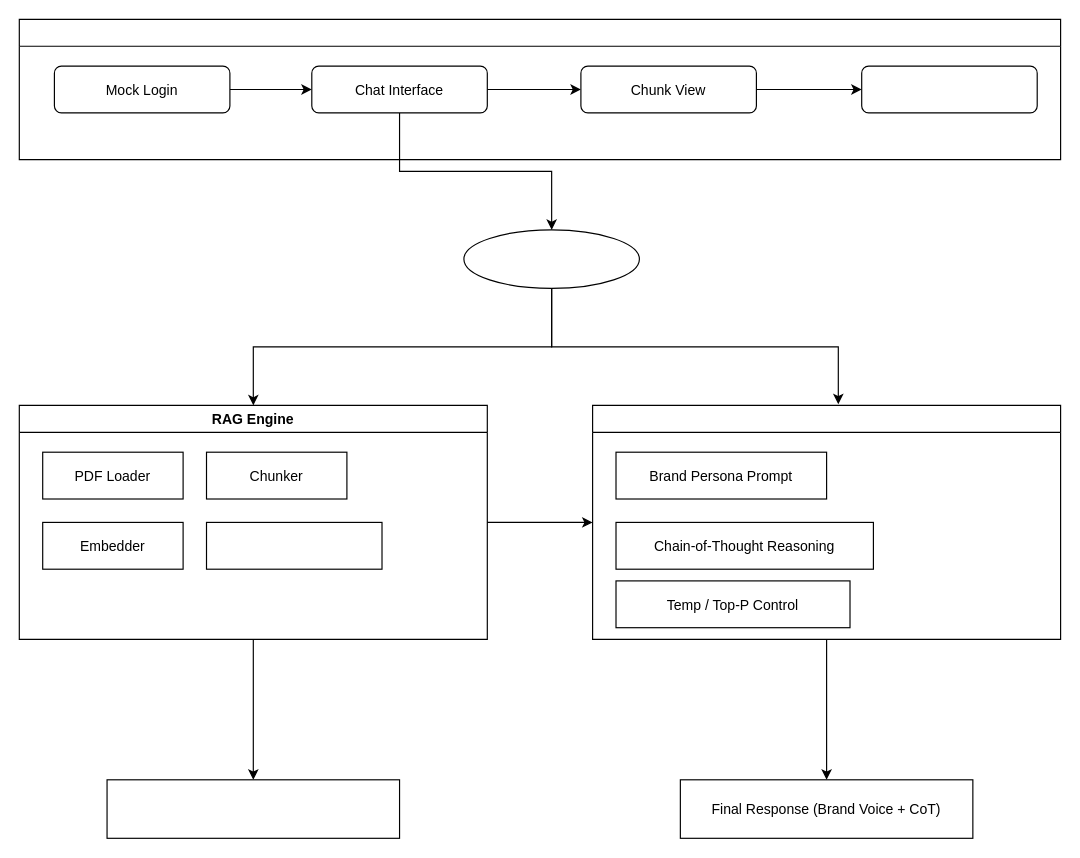
Image size: 1080x858. Some labels were removed from this diagram. Each missing label, with the box of its shape:
Eval Dashboard: (861, 65, 1037, 113)
FAISS Vector DB: (205, 521, 382, 569)
LLM Engine (Groq LLaMA 3.3): (591, 404, 1061, 639)
Sentence Transformers (MiniLM-L6): (106, 779, 400, 838)
Streamlit UI: (18, 18, 1061, 160)
User Query: (463, 229, 639, 288)
